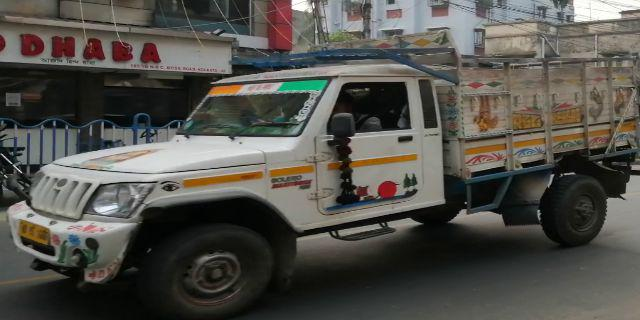Minitruck: (8, 63, 627, 308)
